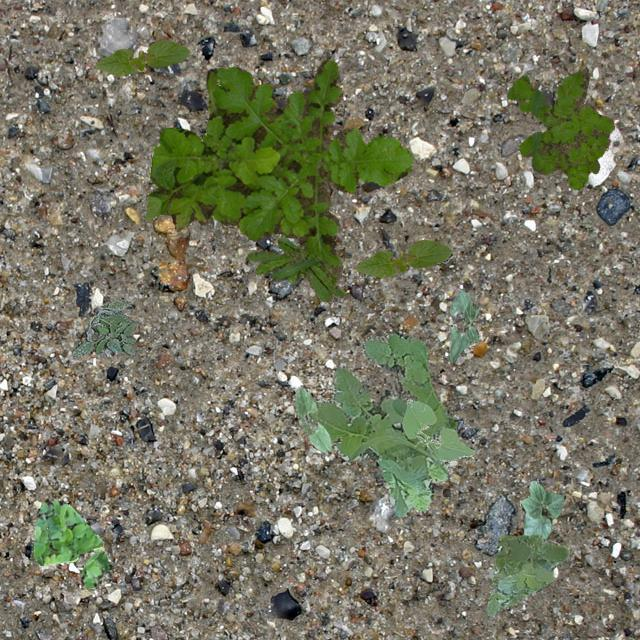crop: (401, 398, 474, 461), (354, 240, 450, 276), (94, 39, 188, 74), (292, 384, 332, 452), (518, 479, 564, 538), (448, 288, 478, 362)
weed: (144, 60, 412, 282), (296, 330, 456, 516), (506, 68, 614, 188), (33, 498, 110, 588), (486, 532, 568, 614), (246, 236, 344, 302), (70, 299, 136, 356)
